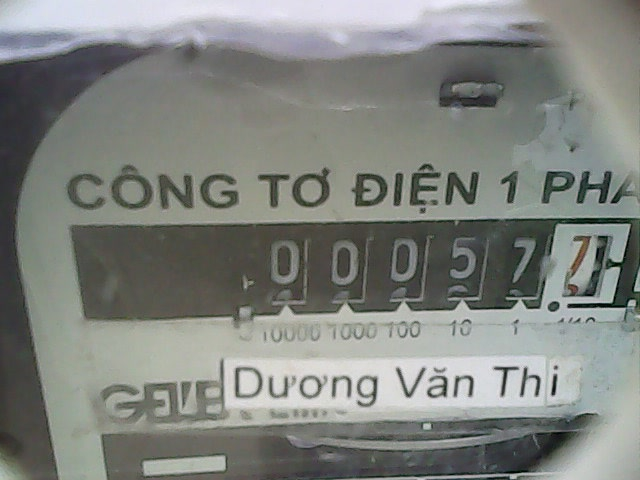phy_plate: (238, 218, 631, 312)
